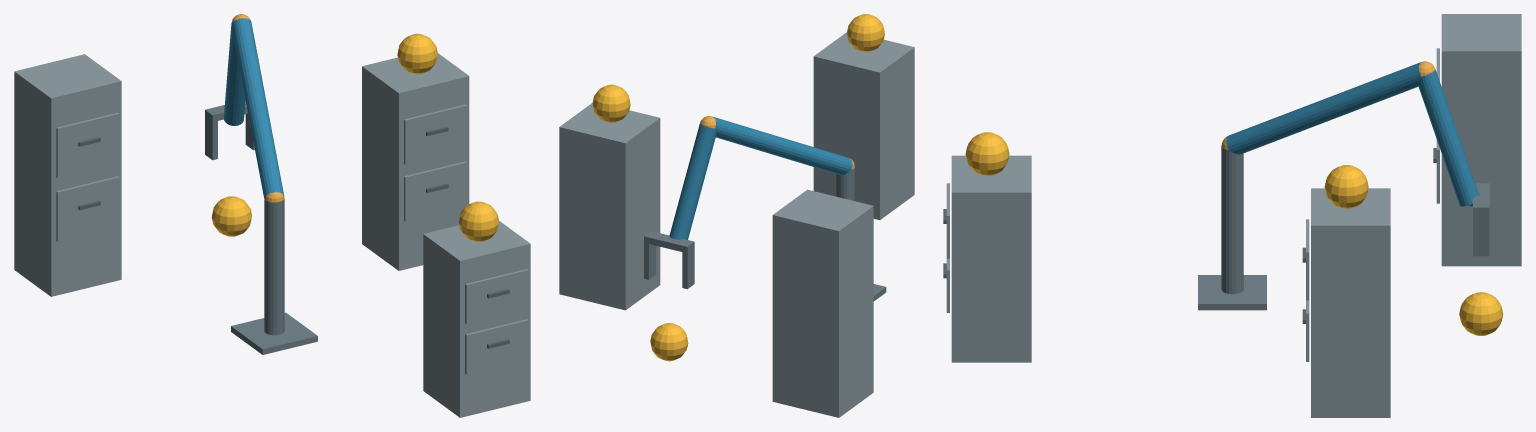
3 views of the same model, side by side, from view 1: azimuth 30°, elevation 25°; view 2: azimuth 150°, elevation 25°; view 3: azimuth 270°, elevation 25° (orthographic). The views are drawn at different scales.
Visible parts, largest first — view 1: cabinet_3 body, cabinet_1 body, cabinet_2 body, moving link 1, cabinet_3 drawer front.001, cabinet_3 drawer front, cabinet_2 drawer front, cabinet_2 drawer front.001, fixed post, cabinet_1 drawer front, cabinet_1 drawer front.001, pedestal (+5 smaller); view 2: cabinet_3 body, cabinet_2 body, cabinet_1 body, moving link 1, moving link 2, ball ball_3, released ball_1, released ball_2, gripper bridge, fixed post, gripper finger -1, gripper finger 1; view 3: cabinet_2 body, cabinet_3 body, cabinet_1 body, moving link 1, fixed post, moving link 2, pedestal, ball ball_3, released ball_2, released ball_1, gripper finger 1.
Part boxes in pixels (box(x1,y1,x2,y2)): cabinet_3 body: box(14, 54, 121, 296); cabinet_1 body: box(423, 221, 530, 417); cabinet_2 body: box(362, 53, 469, 270); moving link 1: box(231, 18, 284, 198); cabinet_3 drawer front.001: box(56, 112, 119, 178); cabinet_3 drawer front: box(56, 176, 119, 241); cabinet_2 drawer front: box(404, 161, 467, 221); cabinet_2 drawer front.001: box(404, 104, 467, 164); fixed post: box(264, 198, 284, 335); cabinet_1 drawer front: box(465, 319, 528, 374); cabinet_1 drawer front.001: box(465, 269, 528, 324); pedestal: box(231, 312, 317, 354); cabinet_3 body: box(772, 189, 873, 417); cabinet_2 body: box(559, 103, 660, 310); cabinet_1 body: box(813, 32, 914, 219); moving link 1: box(712, 116, 852, 174); moving link 2: box(669, 123, 716, 239); ball ball_3: box(650, 323, 688, 361); released ball_1: box(847, 14, 884, 52); released ball_2: box(592, 84, 630, 122); gripper bridge: box(644, 231, 694, 253); fixed post: box(836, 167, 854, 200); gripper finger -1: box(682, 248, 694, 289); gripper finger 1: box(644, 243, 656, 279); cabinet_2 body: box(1311, 188, 1390, 417); cabinet_3 body: box(1441, 14, 1521, 266); cabinet_1 body: box(951, 155, 1031, 362); moving link 1: box(1226, 62, 1421, 154); fixed post: box(1221, 146, 1243, 294); moving link 2: box(1418, 69, 1478, 206); pedestal: box(1198, 275, 1266, 310); ball ball_3: box(1459, 292, 1503, 335); released ball_2: box(1324, 165, 1368, 208); released ball_1: box(965, 132, 1009, 176); gripper finger 1: box(1473, 215, 1489, 256).
Bounding box in the file's own units: 1.62 × 1.05 × 2.1.
